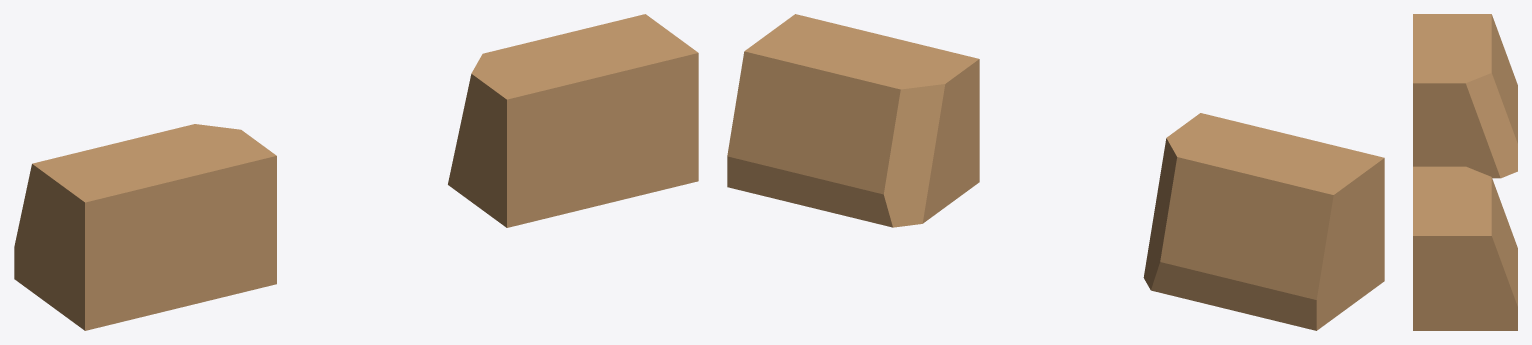
The model's file is Puzzle_Floor_Wall_Conduit_Connector_Base.fbx.
3 renders of one model, left to right at view 1: azimuth 30°, elevation 25°; view 2: azimuth 150°, elevation 25°; view 3: azimuth 270°, elevation 25°, orthographic. The views are drawn at different scales.
Visible parts, largest first — view 1: object1, object2; view 2: object2, object1; view 3: object2, object1.
Part boxes in pixels (x1,y1,x2,y2): object1: (14,124,276,330); object2: (448,14,698,227); object2: (727,14,979,227); object1: (1143,113,1384,330); object2: (1413,166,1517,330); object1: (1413,14,1517,178).
Bounding box in the file's own units: 1 × 0.2 × 0.2.
